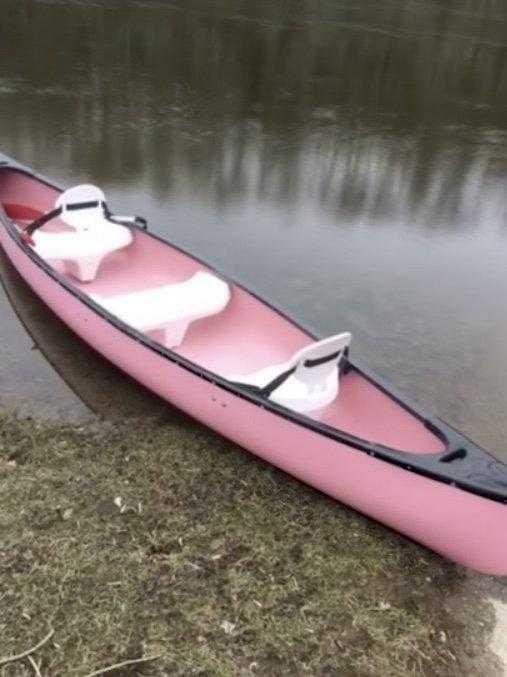kayak: (1, 154, 502, 572)
